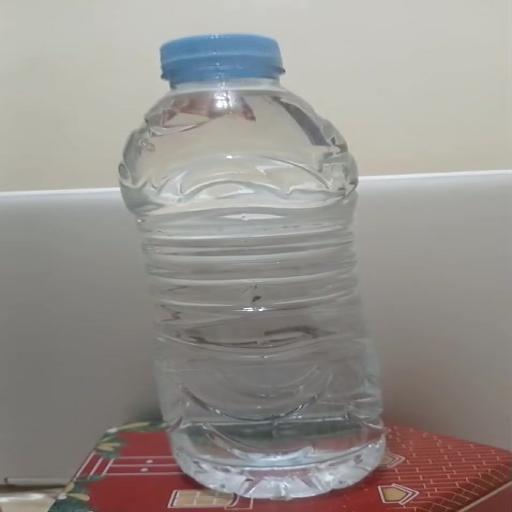bouteille non conformite: (125, 29, 409, 502)
